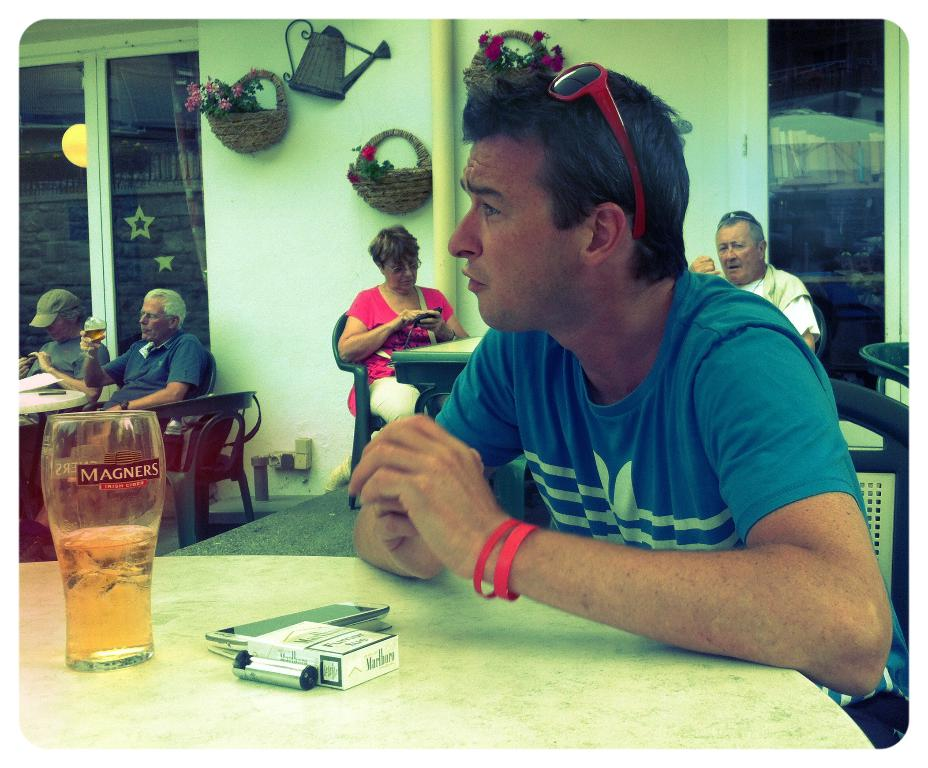Beer: (33, 404, 164, 669), (83, 310, 109, 341)
